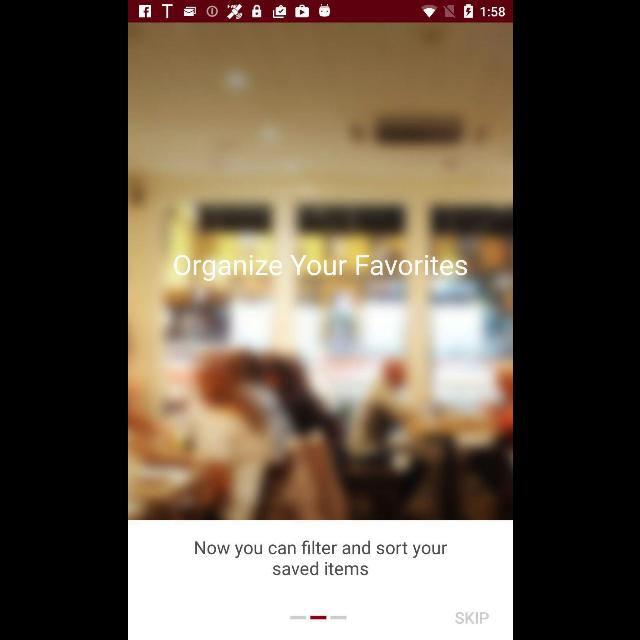image: (128, 23, 512, 520)
pageindicator: (290, 616, 346, 620)
text: (193, 540, 447, 576), (172, 254, 468, 282), (454, 612, 488, 624)
uppertaskbar: (128, 1, 512, 23)
